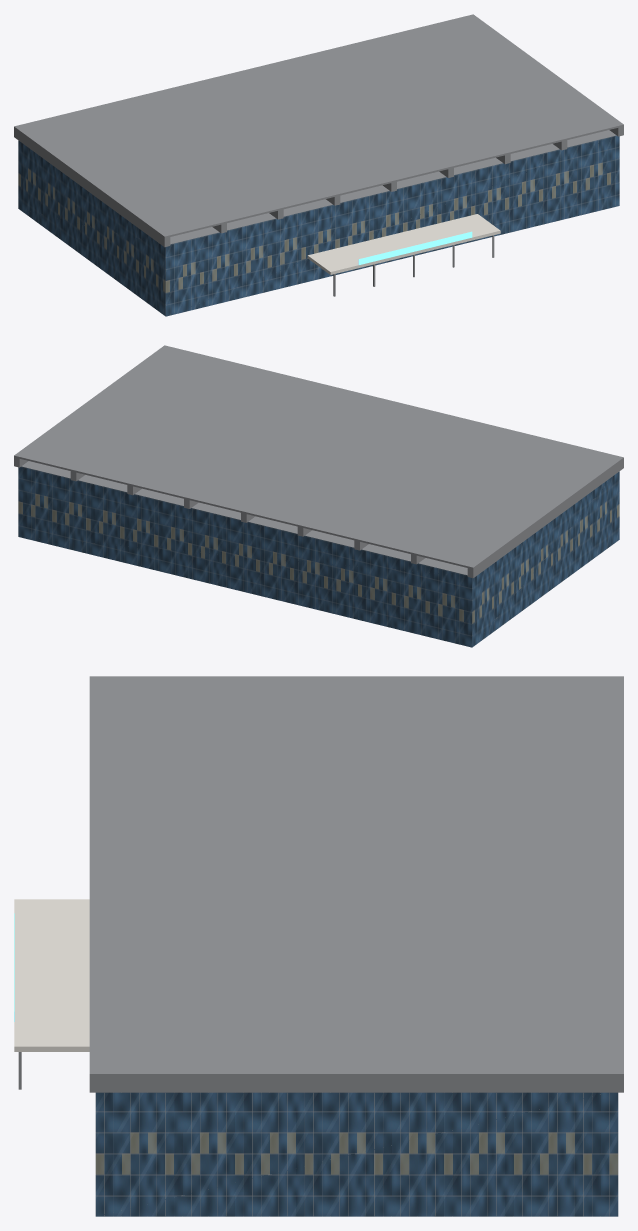
Rendered from 099_convention_center.glb.
3 renders of one model, top to bottom at view 1: azimuth 30°, elevation 25°; view 2: azimuth 150°, elevation 25°; view 3: azimuth 270°, elevation 25°, orthographic. The views are drawn at different scales.
Parts seen in each view (by area): view 1: 099_convention_center; view 2: 099_convention_center; view 3: 099_convention_center.
Boxes of the visible parts, <box> form: 099_convention_center: <box>14,14,623,316</box>; 099_convention_center: <box>14,345,623,647</box>; 099_convention_center: <box>14,676,623,1216</box>.
Bounding box in the file's own units: 162 × 27.6 × 105.
Materials: 4 (1 with a texture image).
